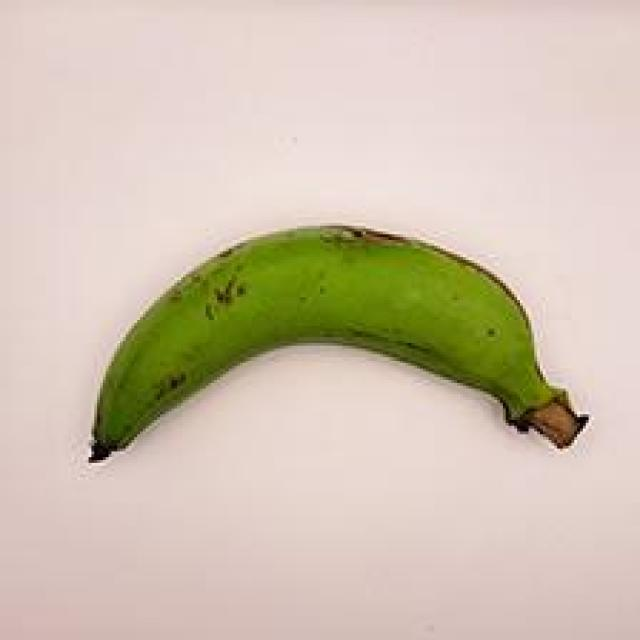Raw: (65, 188, 603, 522)
